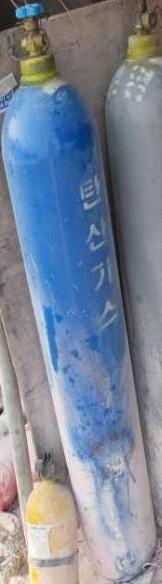cylinder: (1, 0, 162, 584)
